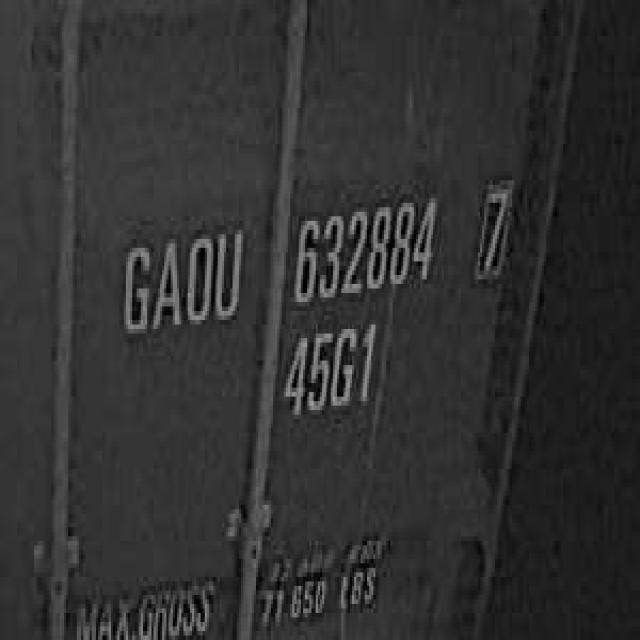dv: (469, 172, 514, 288)
owner: (116, 212, 246, 342)
serial: (286, 180, 439, 306)
size: (277, 316, 380, 428)
